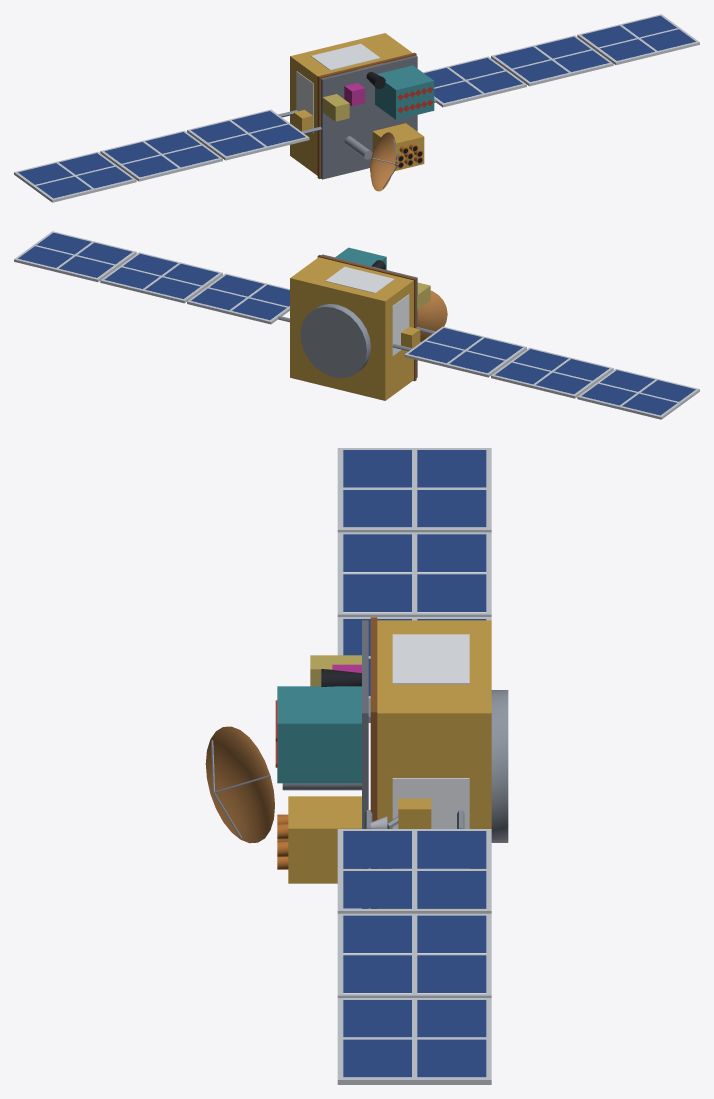
Rendered from oceansat-2.glb.
3 renders of one model, top to bottom at view 1: azimuth 30°, elevation 25°; view 2: azimuth 150°, elevation 25°; view 3: azimuth 270°, elevation 25°, orthographic. The views are drawn at different scales.
Parts seen in each view (by area): view 1: body, solar-panel, foil; view 2: solar-panel, body, foil; view 3: solar-panel, body, foil.
Part boxes in pixels (box(x1,y1,x2,y2)): body: box(14, 14, 699, 202); solar-panel: box(18, 15, 695, 198); foil: box(290, 33, 424, 178); solar-panel: box(18, 232, 695, 415); body: box(14, 231, 699, 419); foil: box(290, 255, 420, 400); solar-panel: box(343, 450, 486, 1077); body: box(205, 448, 508, 1084); foil: box(288, 617, 491, 908).
Bounding box in the file's own units: 13.6 × 2.04 × 2.75.
